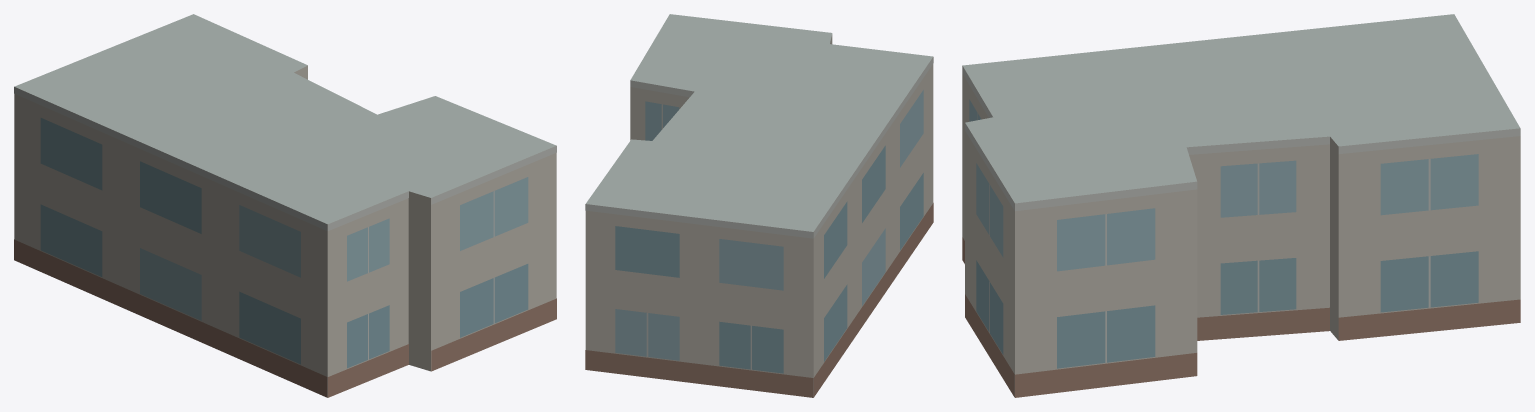
File: survey-upis-32662342.glb
The picture shows the model from 3 angles, left to right: view 1: azimuth 30°, elevation 25°; view 2: azimuth 150°, elevation 25°; view 3: azimuth 270°, elevation 25°; orthographic projection. The views are drawn at different scales.
Parts seen in each view (by area): view 1: survey-upis-32662342.tmp; view 2: survey-upis-32662342.tmp; view 3: survey-upis-32662342.tmp.
Part boxes in pixels (x1,y1,x2,y2): survey-upis-32662342.tmp: (14,14,556,397); survey-upis-32662342.tmp: (585,14,933,397); survey-upis-32662342.tmp: (962,14,1520,397).
Bounding box in the file's own units: 12.76 × 6.1 × 15.88.
